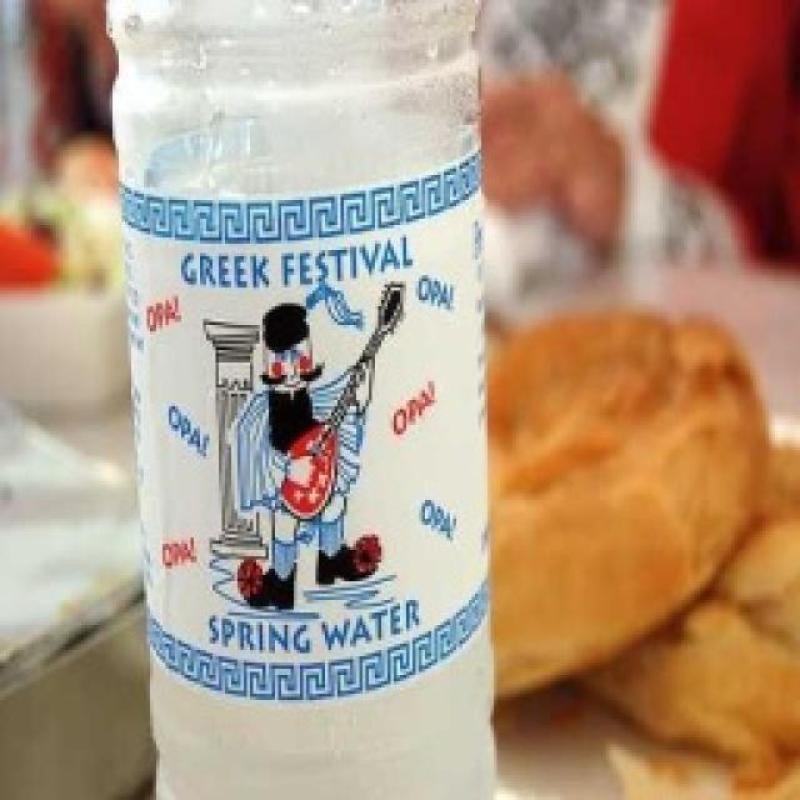botella: (104, 0, 502, 800)
